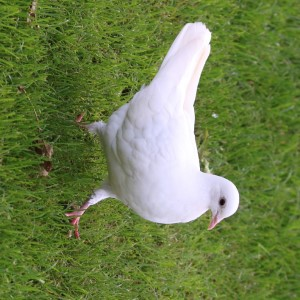pigeon: (62, 19, 243, 242)
